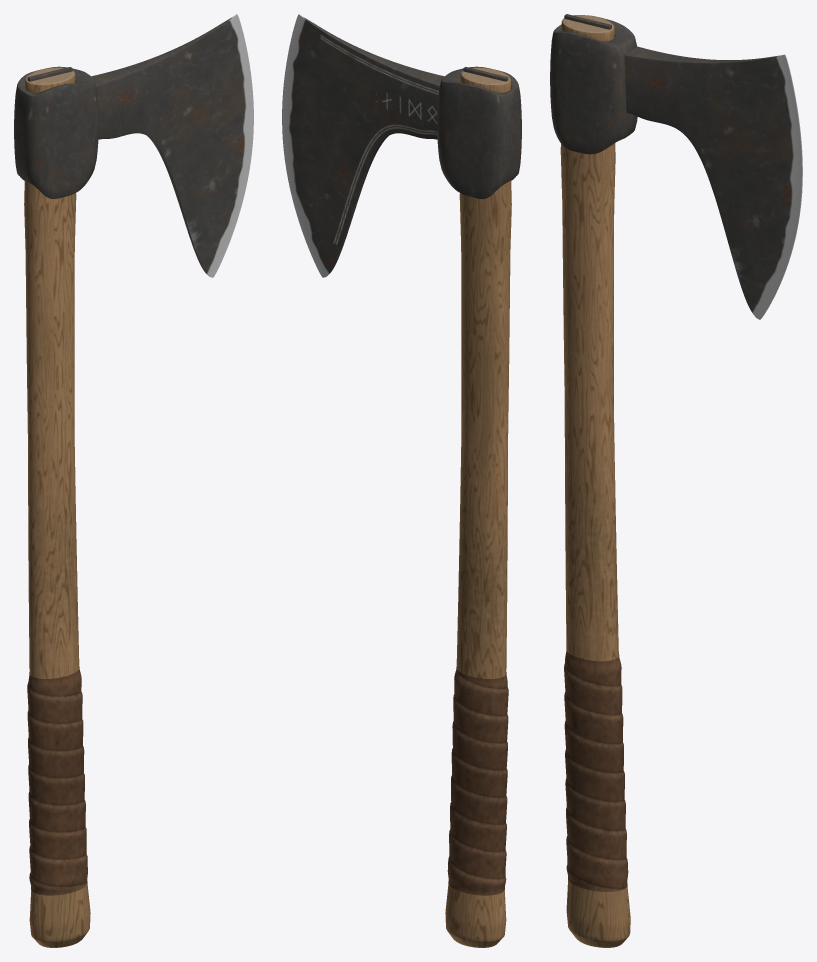
Rendered from bearded_axe.glb.
The picture shows the model from 3 angles, left to right: view 1: azimuth 30°, elevation 25°; view 2: azimuth 150°, elevation 25°; view 3: azimuth 330°, elevation 25°; orthographic projection. The views are drawn at different scales.
Parts seen in each view (by area): view 1: bearded_axe; view 2: bearded_axe; view 3: bearded_axe.
Part boxes in pixels (x1,y1,x2,y2): bearded_axe: [14, 14, 253, 947]; bearded_axe: [282, 14, 521, 947]; bearded_axe: [550, 14, 802, 947].
Bounding box in the file's own units: 0.1976 × 0.714 × 0.0371.
1 material, 1 textured.
